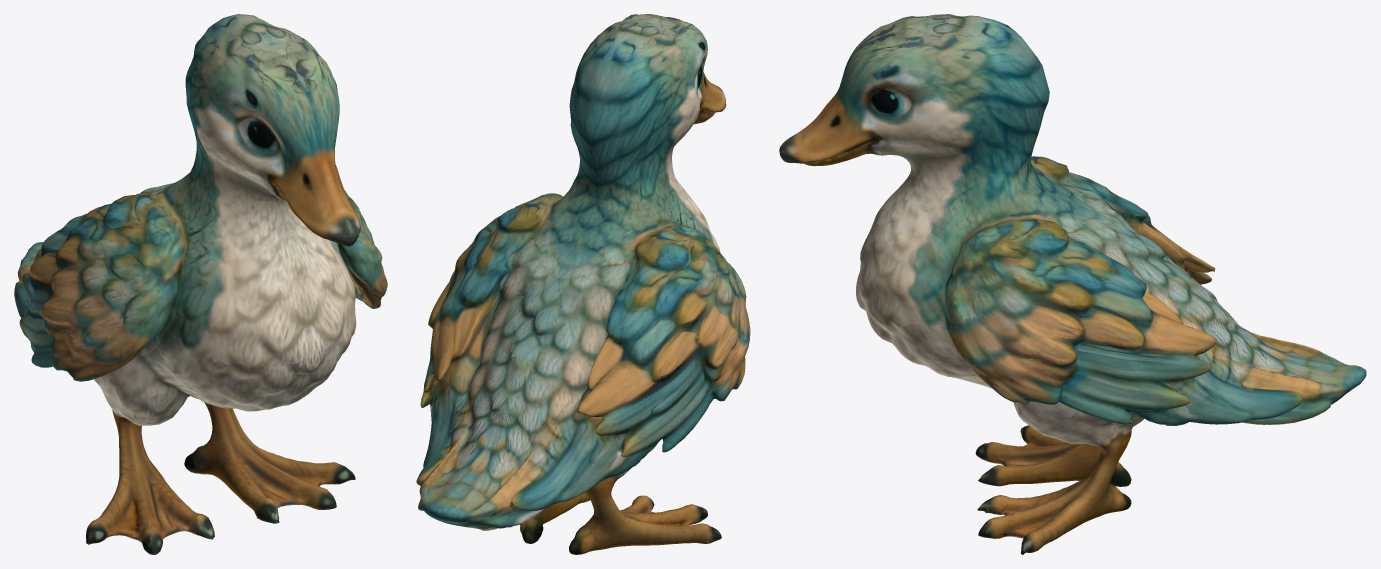
3 renders of one model, left to right at view 1: azimuth 30°, elevation 25°; view 2: azimuth 150°, elevation 25°; view 3: azimuth 270°, elevation 25°, orthographic. The views are drawn at different scales.
Visible parts, largest first — view 1: mesh_node; view 2: mesh_node; view 3: mesh_node.
Boxes of the visible parts, x1,y1,x2,y2 form: mesh_node: (14, 14, 387, 554); mesh_node: (416, 14, 750, 554); mesh_node: (779, 14, 1366, 554).
Size of the model in its own units: 1.13 by 1.81 by 2.
Materials: 1 (1 with a texture image).
